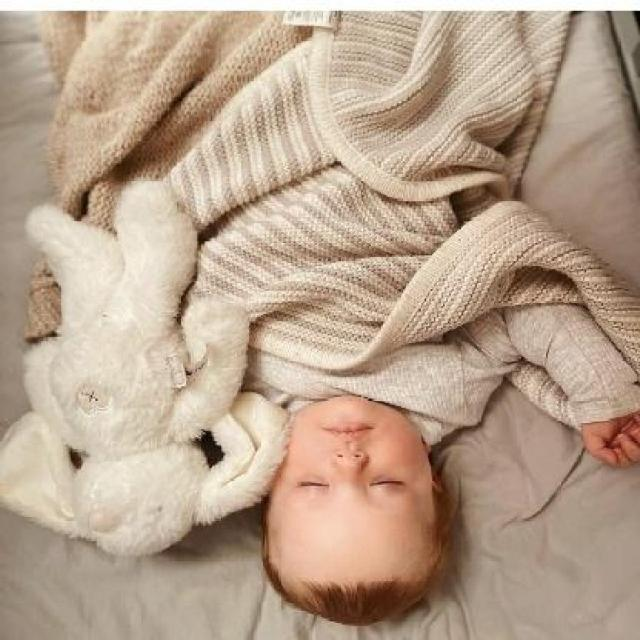baby: (256, 196, 638, 626)
